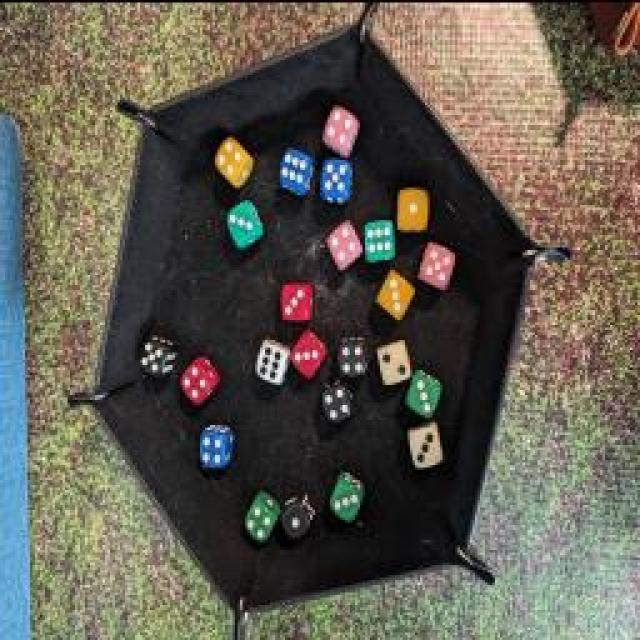dice_1: (278, 478, 320, 544), (394, 180, 434, 235)
dice_2: (371, 328, 414, 388)
dice_3: (326, 464, 369, 526), (272, 278, 318, 328), (222, 199, 268, 249), (404, 418, 448, 470), (288, 324, 330, 378), (378, 259, 414, 319), (405, 365, 443, 415)
dice_4: (321, 100, 361, 160), (214, 129, 254, 186), (239, 488, 281, 542), (179, 350, 219, 405), (194, 419, 234, 471), (324, 216, 361, 266), (334, 336, 374, 382), (316, 378, 352, 424)
dice_5: (136, 330, 182, 380), (412, 239, 456, 291), (320, 151, 355, 201)
dice_6: (275, 144, 315, 194), (358, 211, 398, 261), (251, 336, 289, 382)
